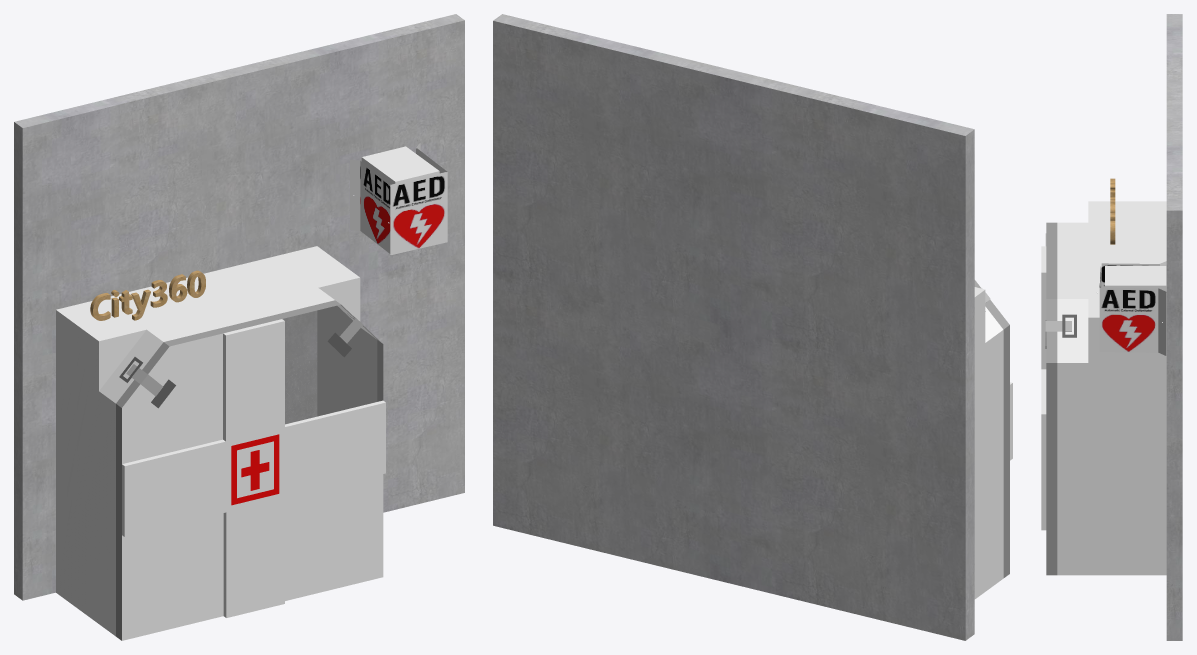
File: yiliaobox.obj
3 renders of one model, left to right at view 1: azimuth 30°, elevation 25°; view 2: azimuth 150°, elevation 25°; view 3: azimuth 270°, elevation 25°, orthographic. The views are drawn at different scales.
Parts seen in each view (by area): view 1: Mesh9 Group2 Model, Mesh14 Component_2_1 Model, Mesh11 Group4 Group3 Model, Mesh12 Group3 Model; view 2: Mesh9 Group2 Model, Mesh14 Component_2_1 Model; view 3: Mesh14 Component_2_1 Model, Mesh9 Group2 Model, Mesh11 Group4 Group3 Model, Mesh12 Group3 Model, Mesh13 Component_1_1 Component_2_1 Model.
Part boxes in pixels (<box>): Mesh9 Group2 Model: <box>14,14,464,600</box>; Mesh14 Component_2_1 Model: <box>56,246,385,640</box>; Mesh11 Group4 Group3 Model: <box>350,142,447,254</box>; Mesh12 Group3 Model: <box>361,146,439,184</box>; Mesh9 Group2 Model: <box>493,14,974,640</box>; Mesh14 Component_2_1 Model: <box>974,280,1012,599</box>; Mesh14 Component_2_1 Model: <box>1041,201,1166,575</box>; Mesh9 Group2 Model: <box>1166,14,1182,640</box>; Mesh11 Group4 Group3 Model: <box>1099,261,1166,355</box>; Mesh12 Group3 Model: <box>1105,266,1166,322</box>; Mesh13 Component_1_1 Component_2_1 Model: <box>1045,314,1076,348</box>.
Size of the model in its own units: 294 by 300 by 89.2.
Materials: 10 (3 with a texture image).
